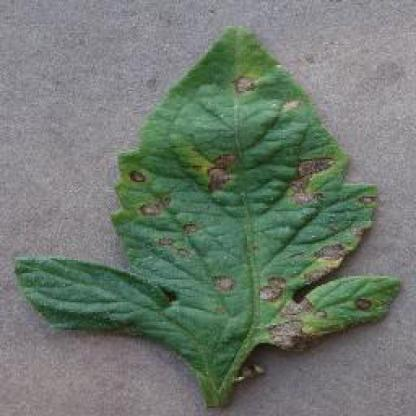Tomato_Blight: (14, 27, 400, 373)
